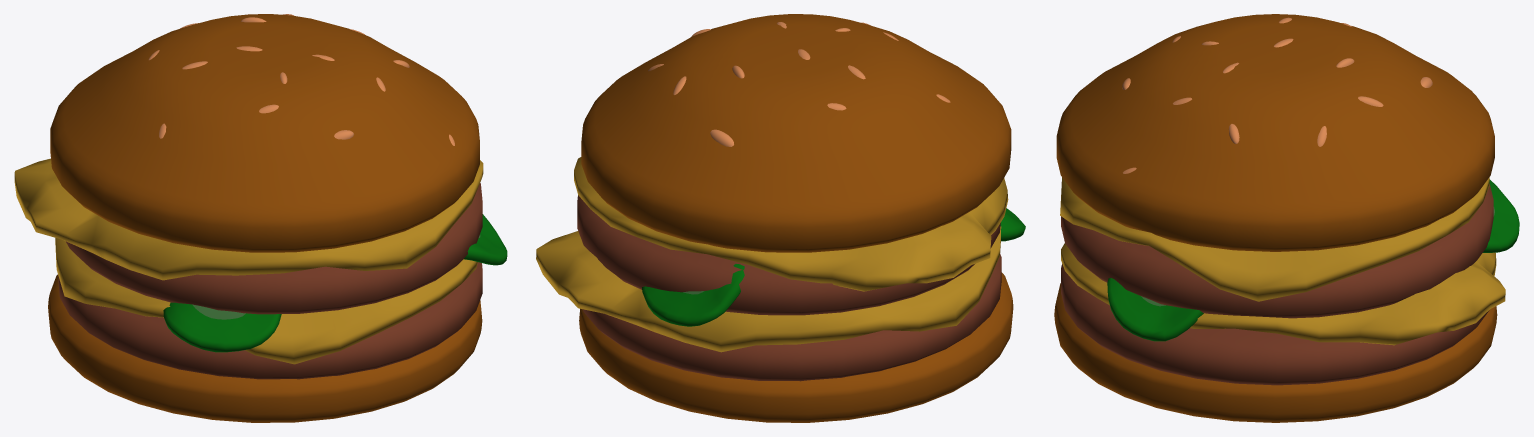
File: burgir.fbx
The picture shows the model from 3 angles, left to right: view 1: azimuth 30°, elevation 25°; view 2: azimuth 150°, elevation 25°; view 3: azimuth 270°, elevation 25°; orthographic projection.
Visible parts, largest first — view 1: Ser.001; view 2: Ser.001; view 3: Ser.001.
Boxes of the visible parts, x1,y1,x2,y2 form: Ser.001: (14,14,507,422); Ser.001: (536,14,1025,422); Ser.001: (1054,14,1519,422).
Bounding box in the file's own units: 122 × 86.53 × 120.
